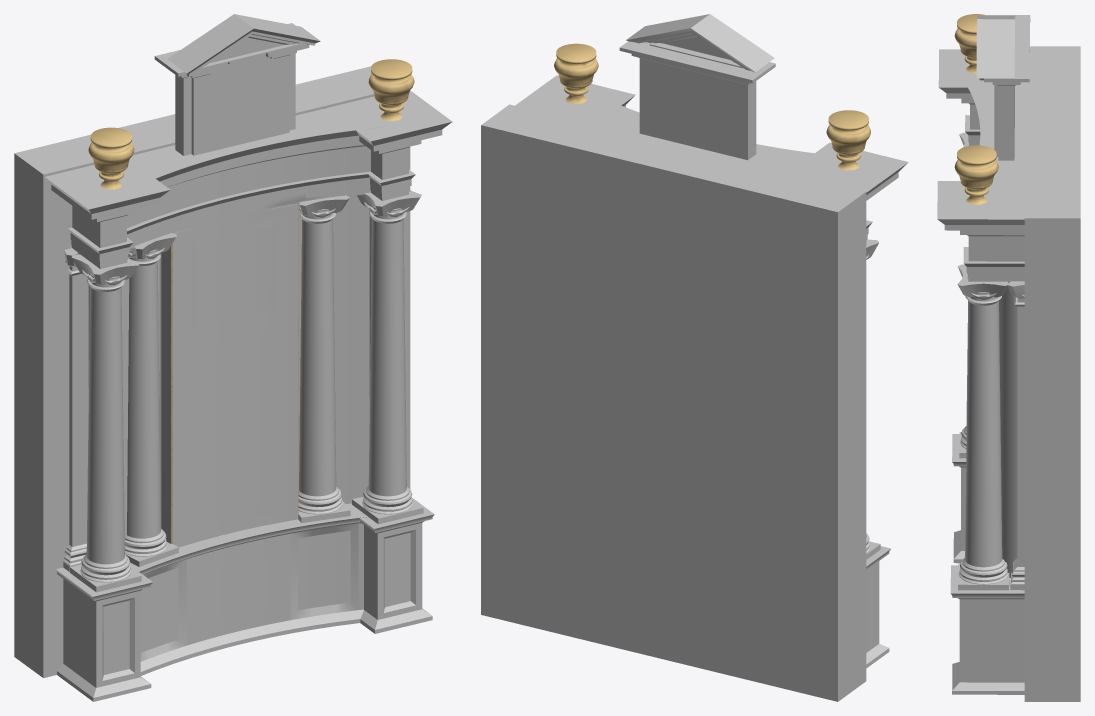
Rendered from Ionic_Ultimate.fbx.
3 views of the same model, side by side, from view 1: azimuth 30°, elevation 25°; view 2: azimuth 150°, elevation 25°; view 3: azimuth 270°, elevation 25° (orthographic). The views are drawn at different scales.
Visible parts, largest first — view 1: Ionic_Ultimate; view 2: Ionic_Ultimate; view 3: Ionic_Ultimate.
Part boxes in pixels (x1,y1,x2,y2): Ionic_Ultimate: (14,14,452,701); Ionic_Ultimate: (481,14,908,701); Ionic_Ultimate: (937,14,1080,701).
Bounding box in the file's own units: 354 × 574 × 125.
